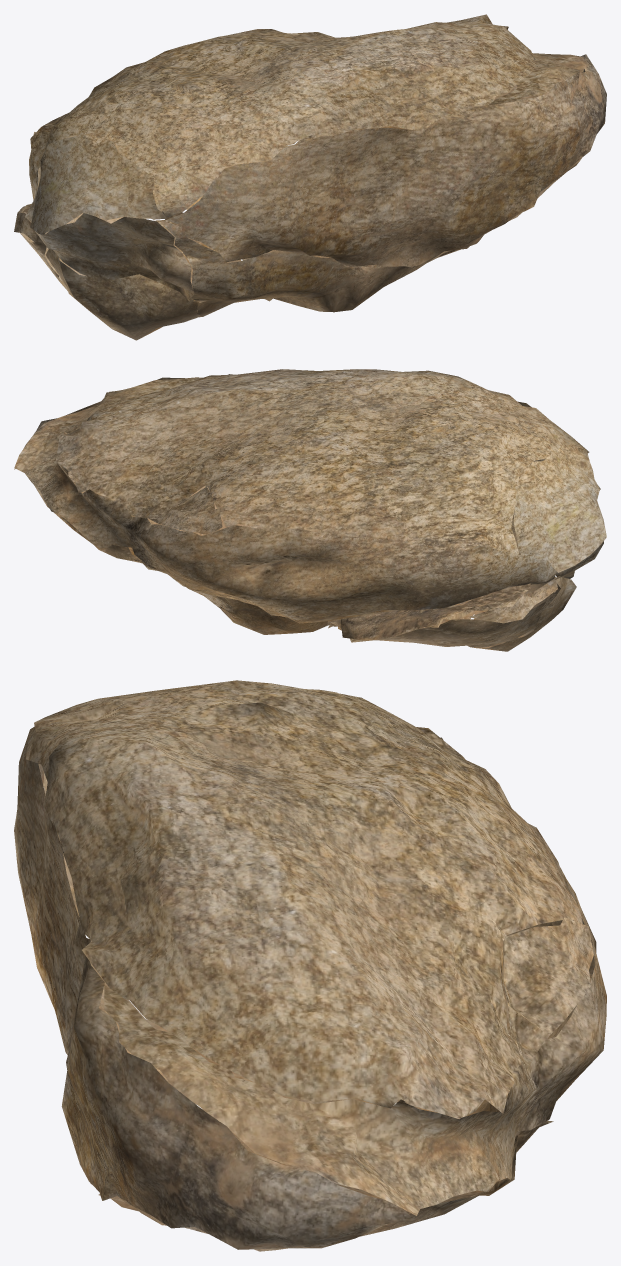
Rendered from pr_granite_c.fbx.
3 renders of one model, top to bottom at view 1: azimuth 30°, elevation 25°; view 2: azimuth 150°, elevation 25°; view 3: azimuth 270°, elevation 25°, orthographic. The views are drawn at different scales.
Parts seen in each view (by area): view 1: pr_granite_c_LOD0; view 2: pr_granite_c_LOD0; view 3: pr_granite_c_LOD0.
Part boxes in pixels (x1=…): pr_granite_c_LOD0: x1=14, y1=14, x2=606, y2=340; pr_granite_c_LOD0: x1=14, y1=369, x2=606, y2=651; pr_granite_c_LOD0: x1=14, y1=680, x2=606, y2=1251.
Size of what is drawn, in the model's own units: 1.36 by 0.5299 by 0.7398.
